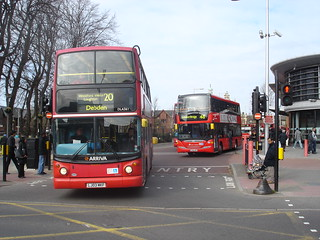bus: (46, 45, 153, 189), (175, 93, 241, 156)
